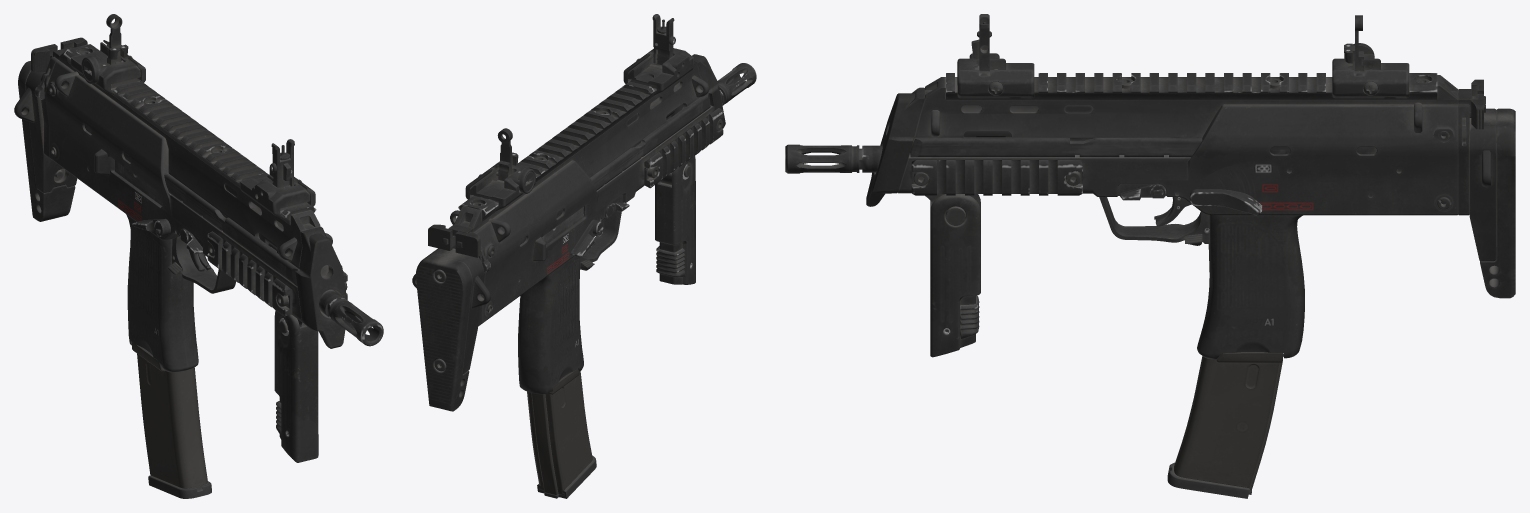
The picture shows the model from 3 angles, left to right: view 1: azimuth 30°, elevation 25°; view 2: azimuth 150°, elevation 25°; view 3: azimuth 270°, elevation 25°; orthographic projection. The views are drawn at different scales.
Visible parts, largest first — view 1: MP7_CS2; view 2: MP7_CS2; view 3: MP7_CS2.
Boxes of the visible parts, x1=… form: MP7_CS2: x1=14, y1=14, x2=383, y2=498; MP7_CS2: x1=412, y1=14, x2=756, y2=498; MP7_CS2: x1=785, y1=14, x2=1515, y2=498.
Bounding box in the file's own units: 0.0583 × 0.2905 × 0.4046.
Materials: 1 (1 with a texture image).
